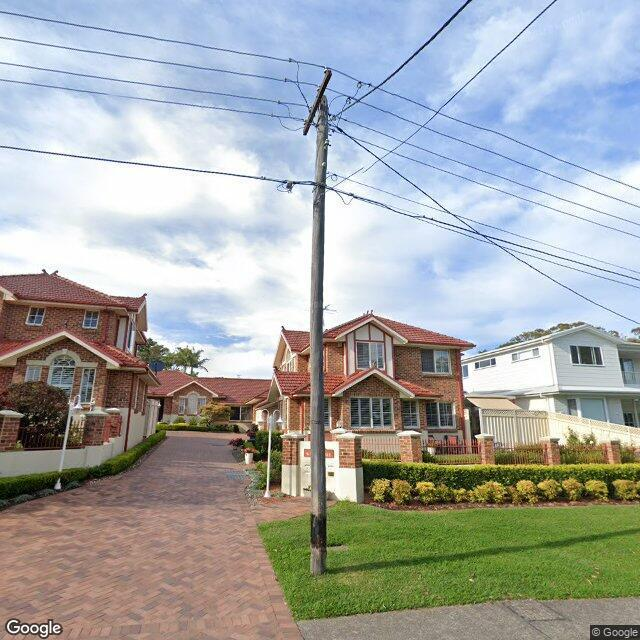crossarm: (301, 68, 333, 138)
timber-pole: (311, 90, 329, 576)
